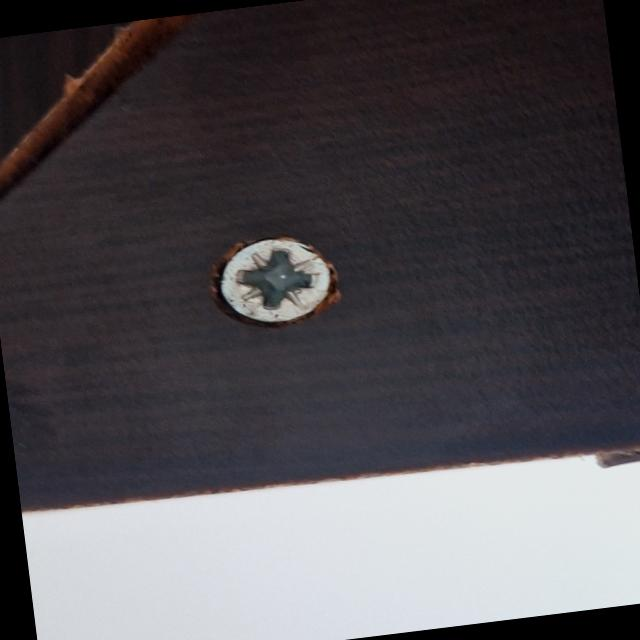Pozidriv: (210, 227, 348, 342)
